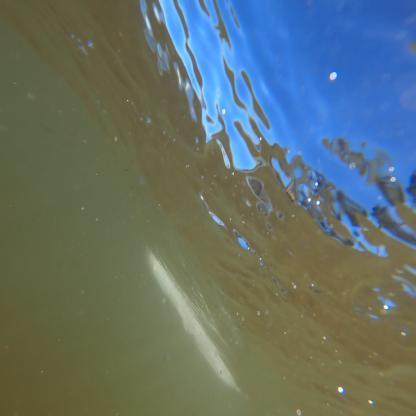Rác: (146, 252, 235, 394)
